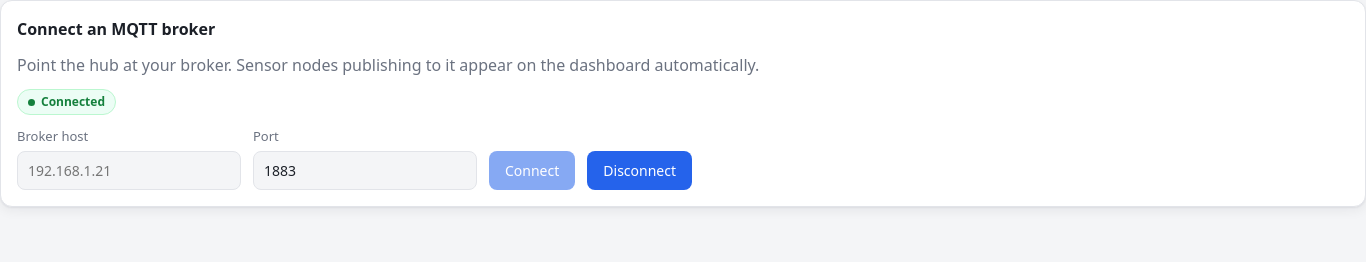
MqttPanel › restores the connected state on mount and disconnects on request
Expected: the text "Connected" is shown, [17, 89, 116, 115]
Click the button "Disconnect" at (640, 170), box [587, 150, 692, 190]
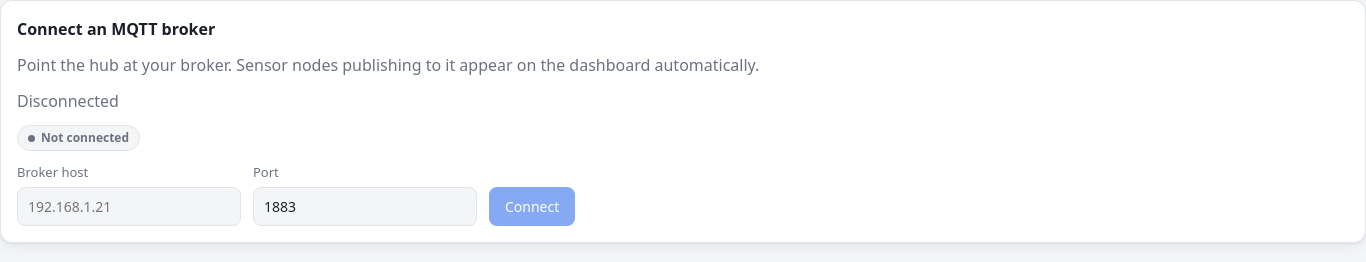
Expected: the text "Disconnected" is shown, [17, 90, 119, 112]
Expected: the text "Not connected" is shown, [17, 125, 140, 151]
